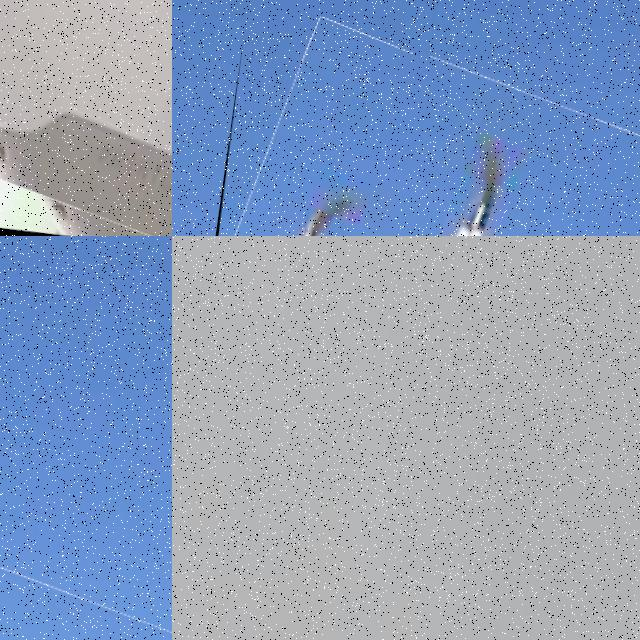0: (187, 30, 640, 236), (0, 502, 172, 640)
drone: (0, 0, 172, 236)
